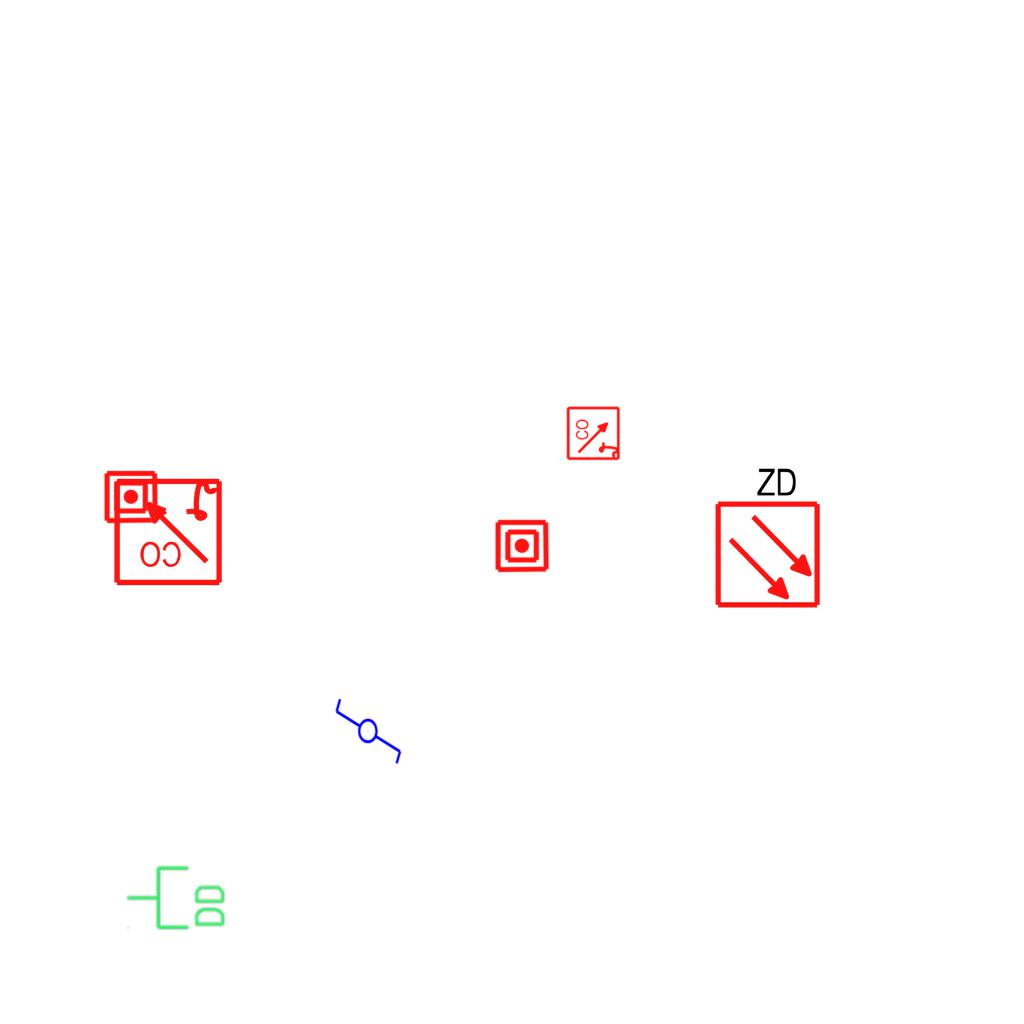Datenanschluss_zweifach: (125, 864, 228, 933)
NAM-Nichtautomatischer_Melder: (102, 468, 160, 526), (494, 518, 550, 574)
ROA_Rauchmelder_optisch_mit_Signalgeber_(Sockelsirene): (111, 474, 224, 587), (566, 405, 622, 461)
Wechselschalter: (333, 688, 405, 766)
ZD_Melder_in_Zwischendecke_mit_Revisionsoeffnung_mind_40_x_40_cm: (709, 461, 823, 610)
